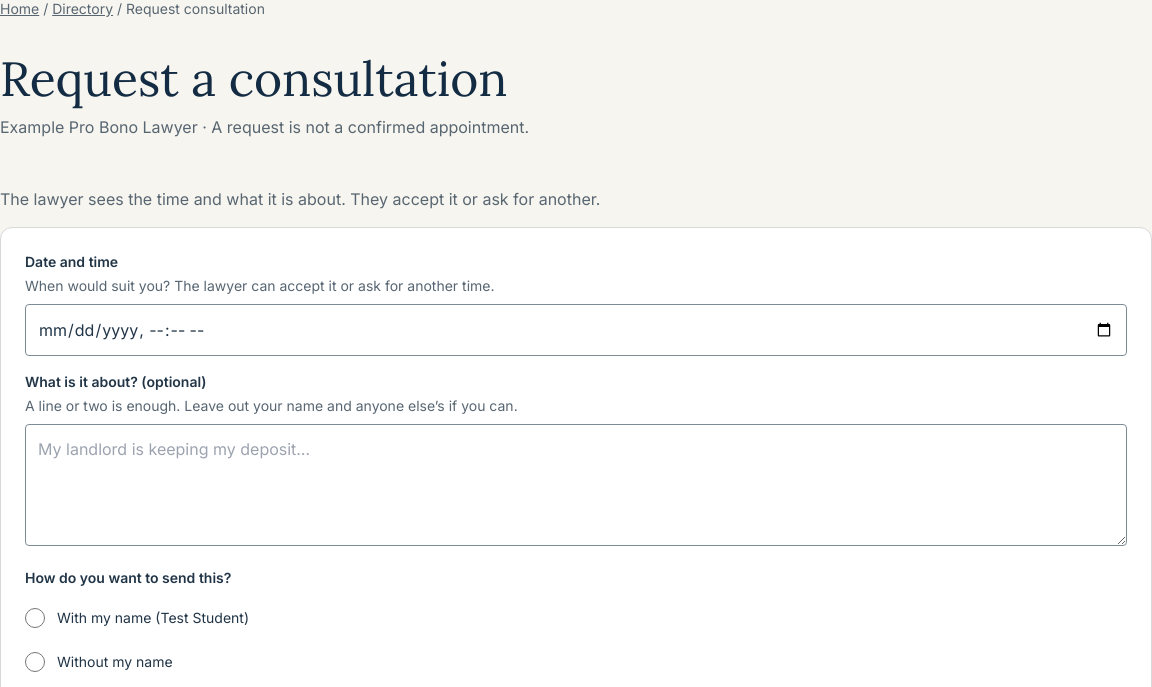
Scenario: Booking a lawyer: what is said about email › says no email is sent when the person chooses to stay anonymous
Click the radio button labelled "Without my name" at point(35, 662), box x1=25 y1=652 x2=45 y2=672
(page scrolled)
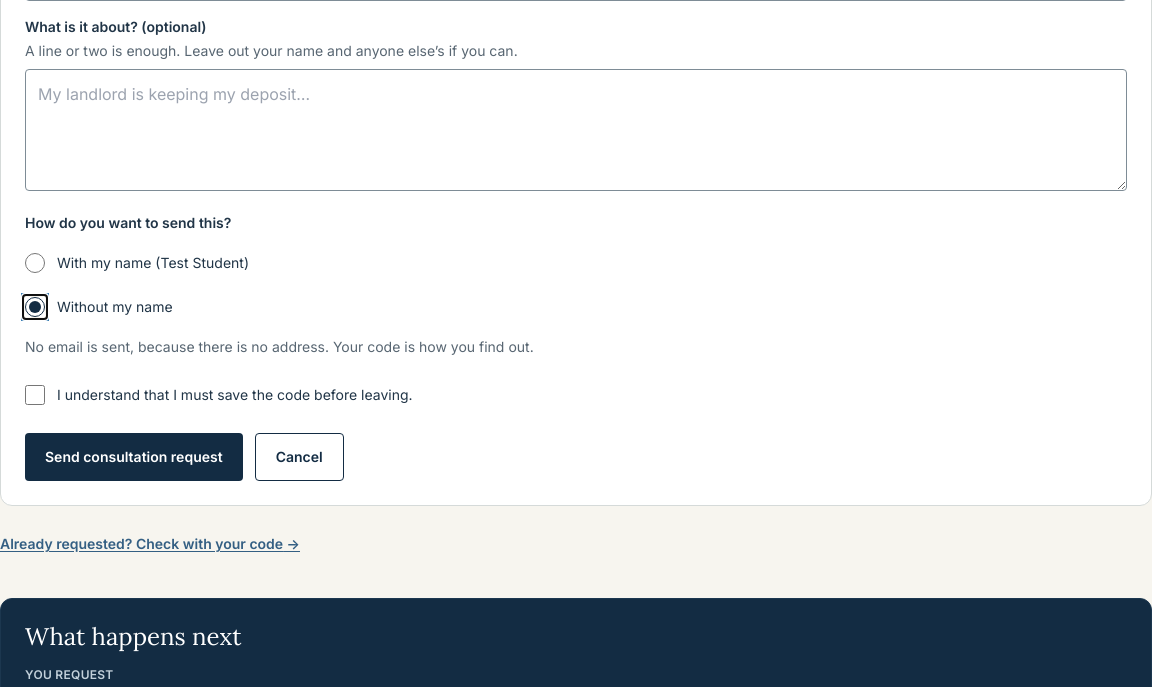
Now the text "No email is sent, because there is no address" is shown, box x1=25 y1=338 x2=534 y2=355
